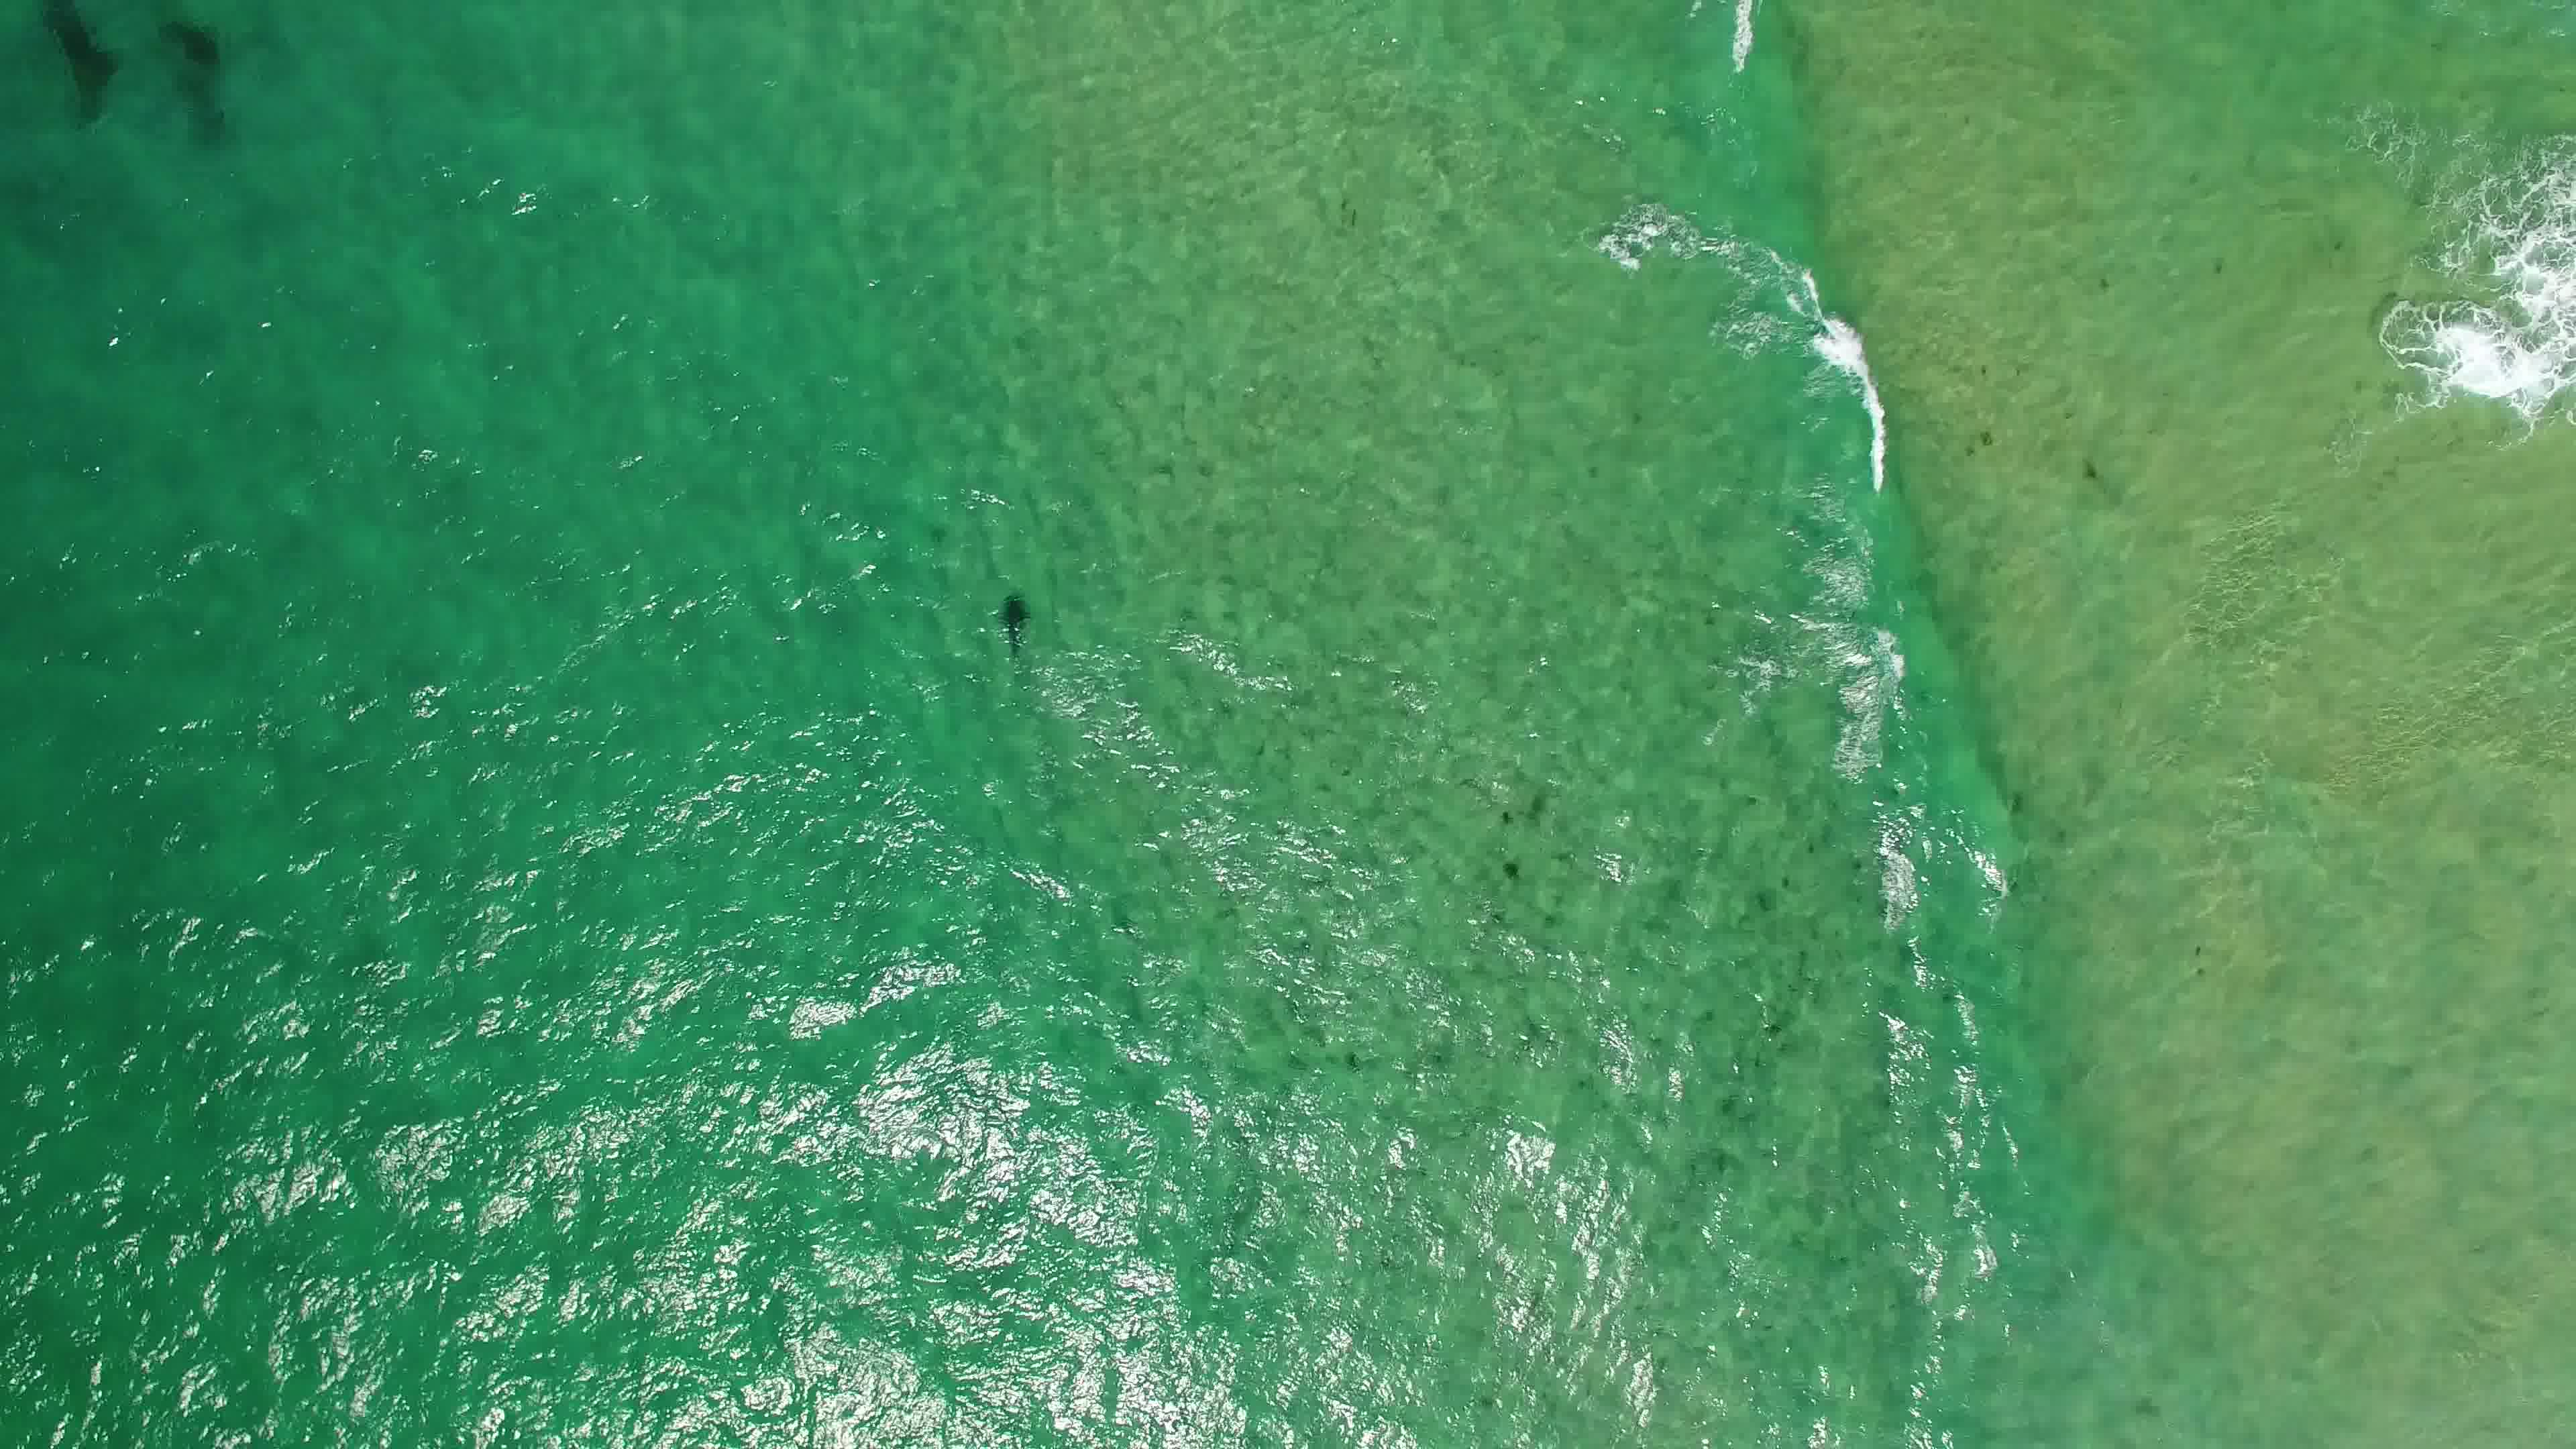shark: (991, 584, 1035, 669)
